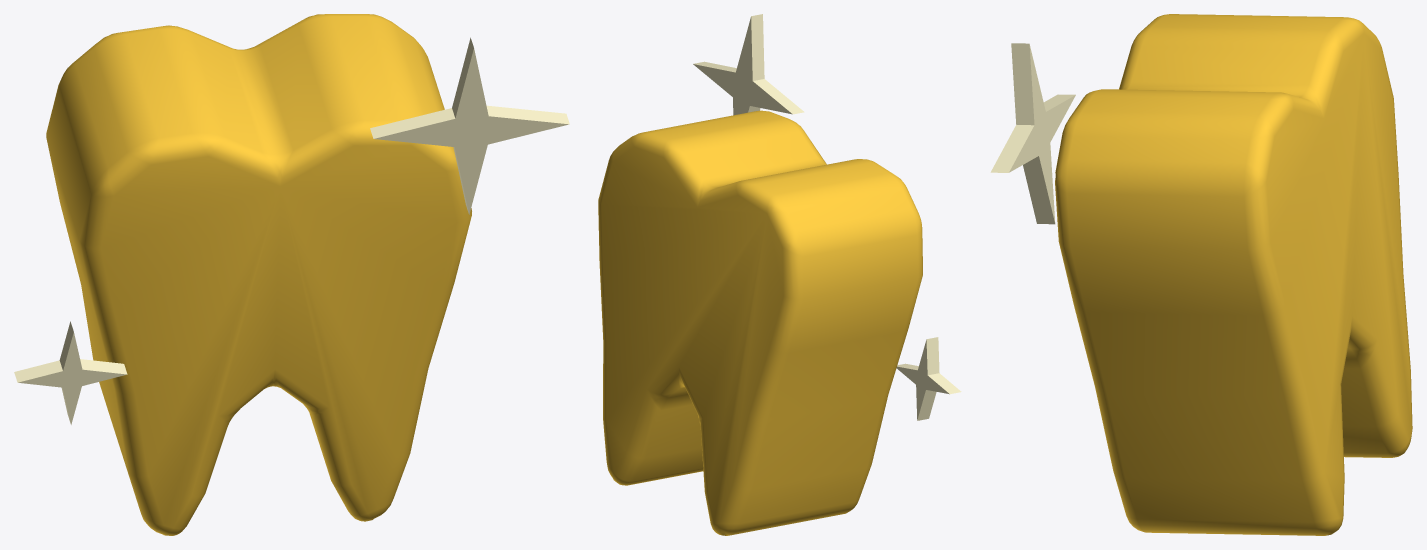
File: GoldenTooth.fbx
3 renders of one model, left to right at view 1: azimuth 30°, elevation 25°; view 2: azimuth 150°, elevation 25°; view 3: azimuth 270°, elevation 25°, orthographic. The views are drawn at different scales.
Parts seen in each view (by area): view 1: GoldenTooth_Body, GoldenTooth_Neon; view 2: GoldenTooth_Body, GoldenTooth_Neon; view 3: GoldenTooth_Body, GoldenTooth_Neon.
Boxes of the visible parts, bbox=[...] form: GoldenTooth_Body: bbox=[46, 14, 471, 535]; GoldenTooth_Neon: bbox=[14, 37, 569, 424]; GoldenTooth_Body: bbox=[598, 110, 922, 535]; GoldenTooth_Neon: bbox=[693, 14, 961, 420]; GoldenTooth_Body: bbox=[1055, 14, 1412, 535]; GoldenTooth_Neon: bbox=[990, 43, 1075, 224].
Bounding box in the file's own units: 2.72 × 3 × 2.25.
